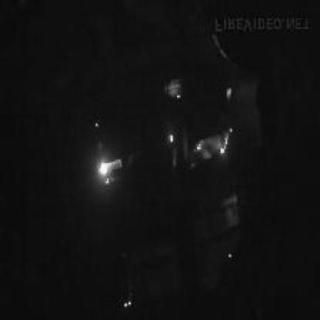Fire: (93, 156, 123, 188)
